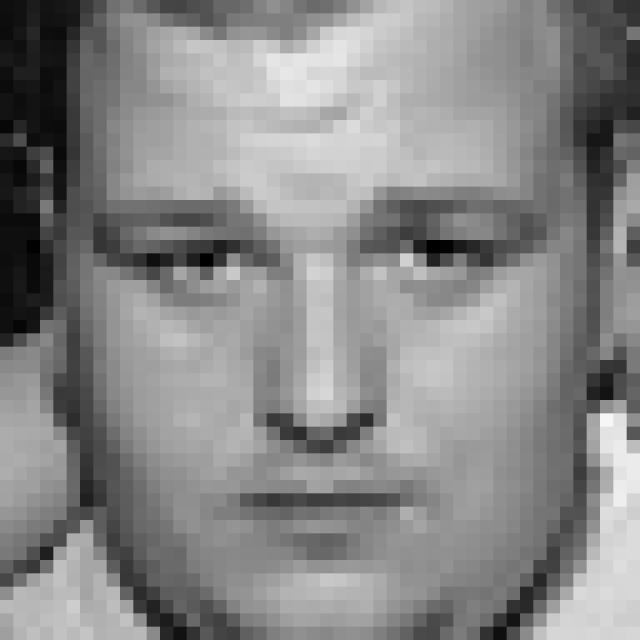neutral: (85, 176, 557, 566)
